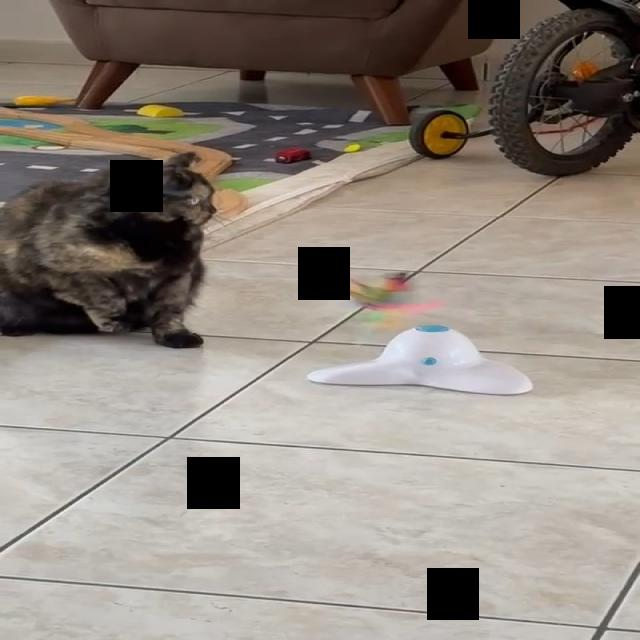authorized: (0, 150, 217, 348)
